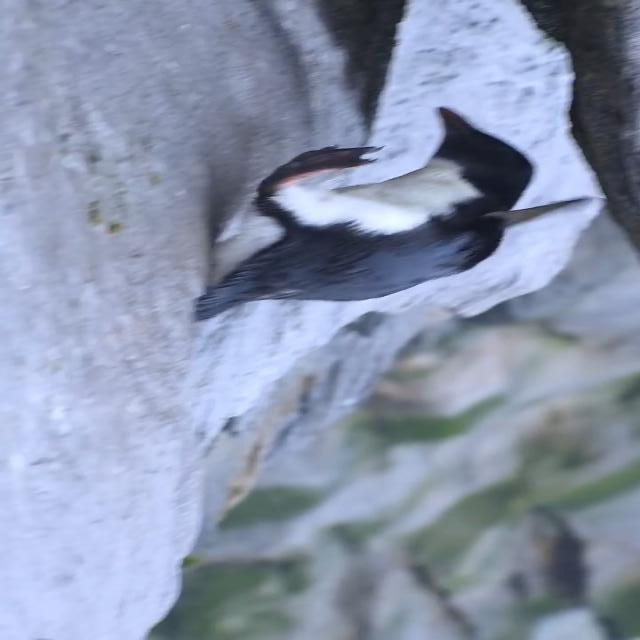penguin: (192, 104, 605, 325)
